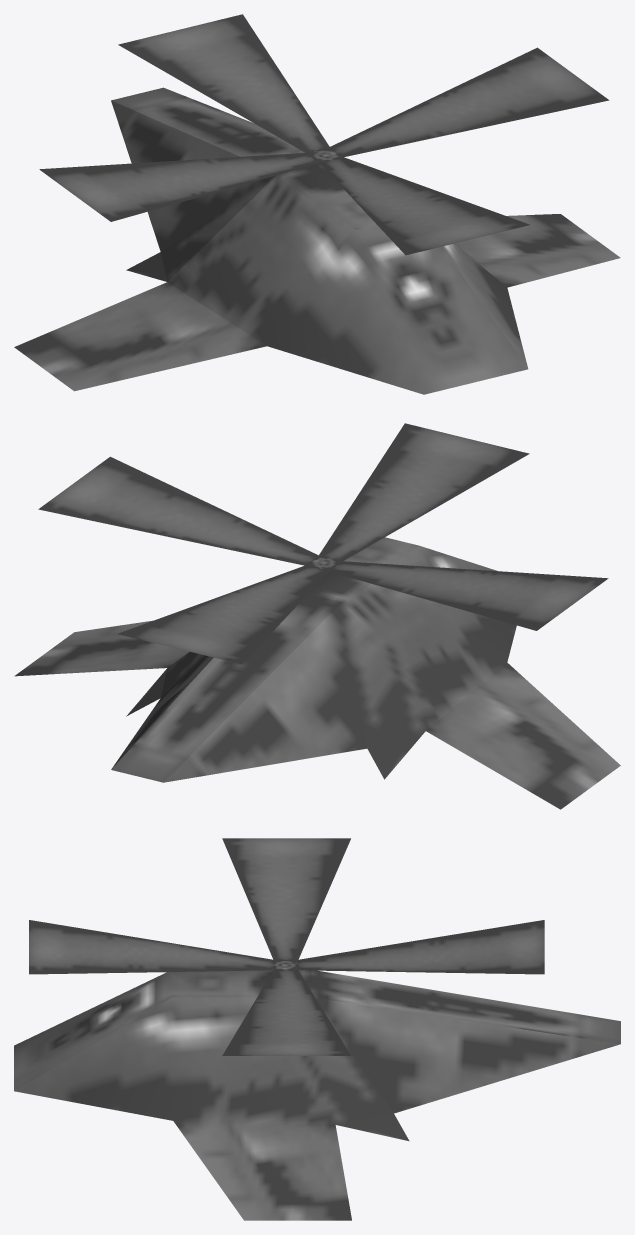
The model's file is guardian.glb.
The picture shows the model from 3 angles, top to bottom: view 1: azimuth 30°, elevation 25°; view 2: azimuth 150°, elevation 25°; view 3: azimuth 270°, elevation 25°; orthographic projection. The views are drawn at different scales.
Visible parts, largest first — view 1: root; view 2: root; view 3: root.
Part boxes in pixels (x1,y1,x2,y2): root: (14,14,620,394); root: (14,423,620,809); root: (14,838,620,1220).
Bounding box in the file's own units: 1.4 × 0.4219 × 1.5.
1 material, 1 textured.
